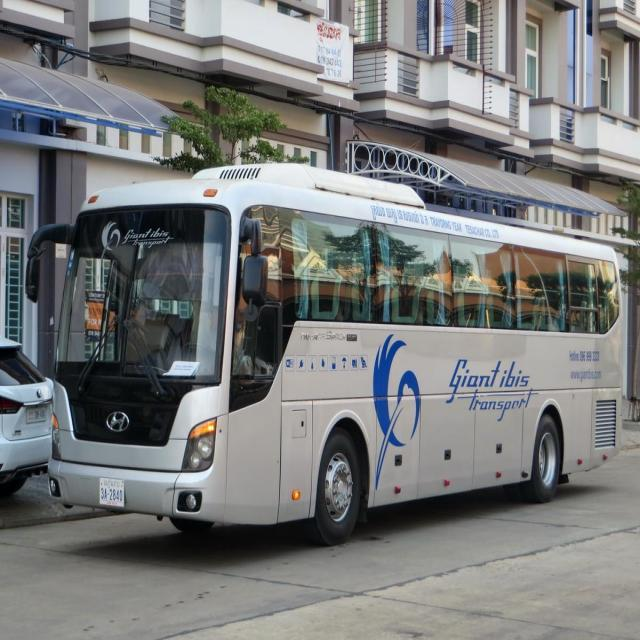Siem_Reap: (103, 478, 120, 488)
